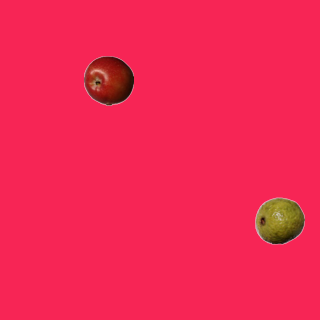Apple Braeburn: (83, 55, 133, 105)
Guava: (254, 195, 304, 245)
